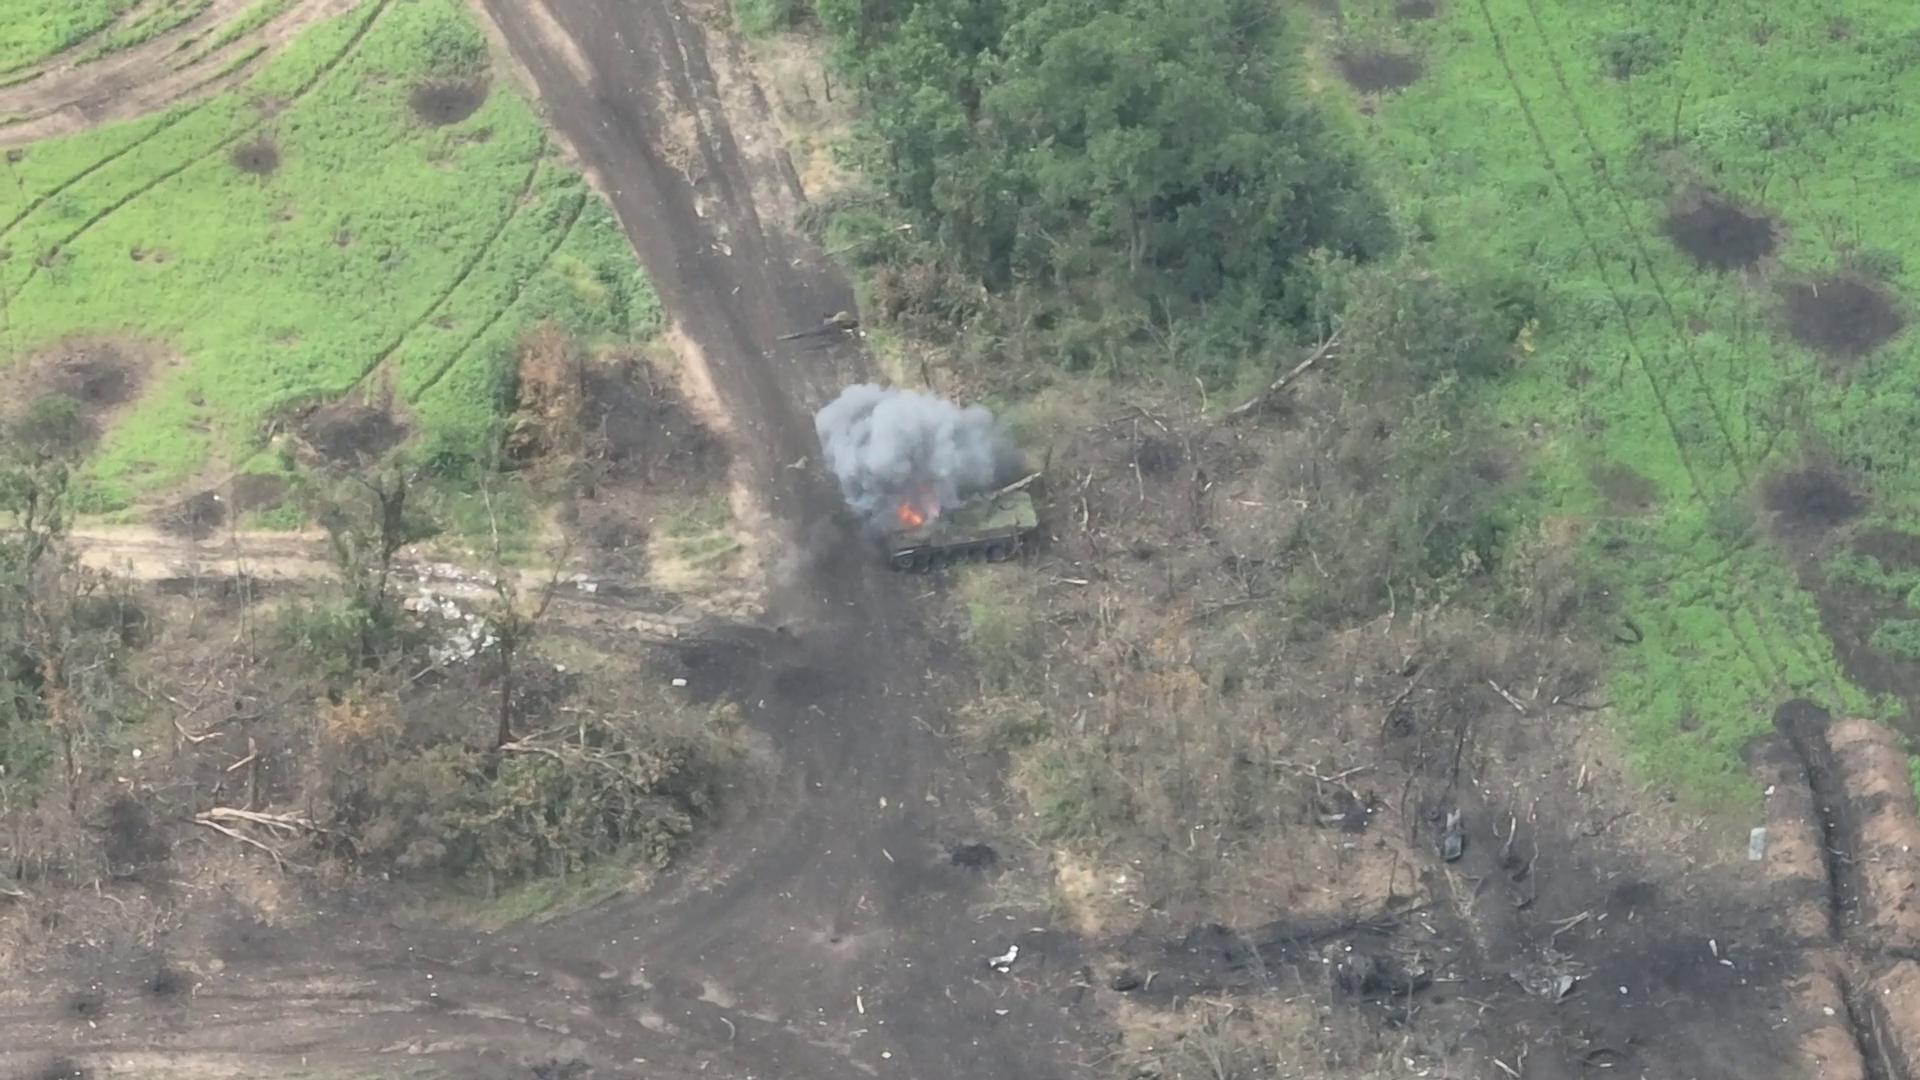tank: (880, 469, 1048, 578)
